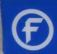Fisher: (21, 17, 44, 44)
